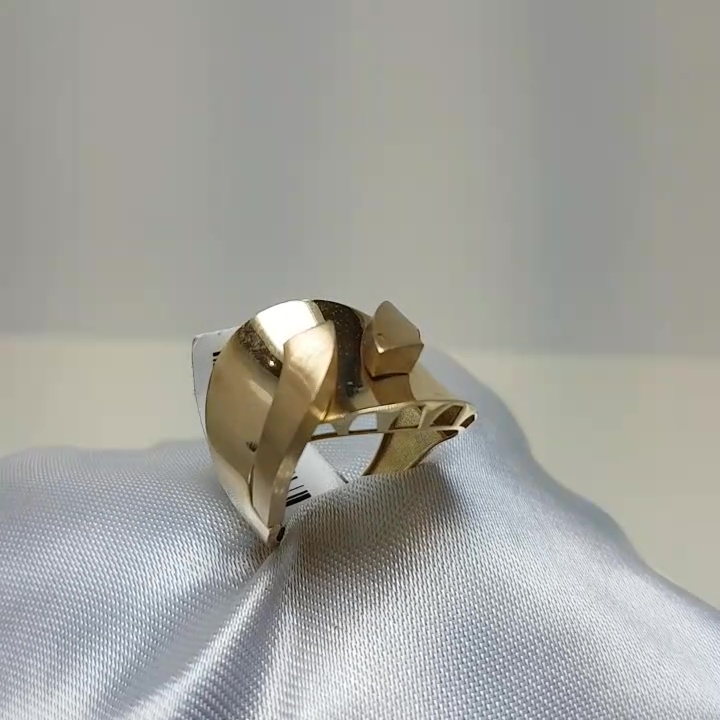Ring 4: (133, 277, 494, 568)
